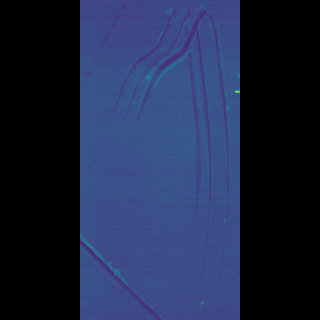Loch: (132, 6, 196, 309), (119, 225, 163, 318), (111, 1, 146, 94)
